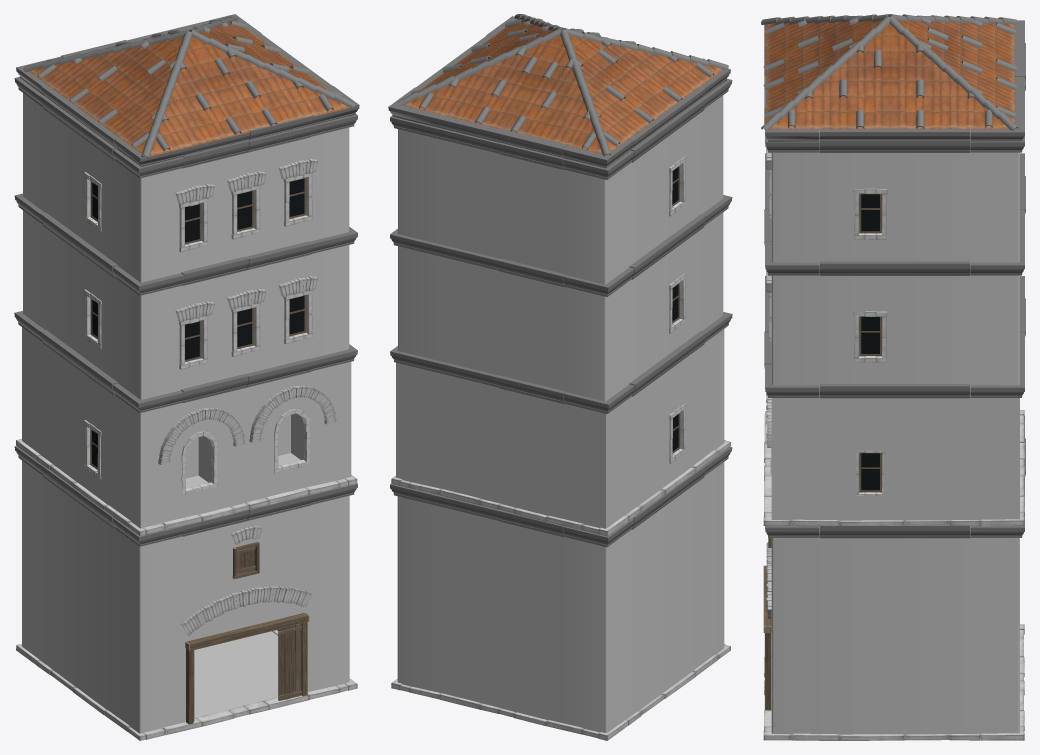
Rendered from SM_insulae_building_03.fbx.
3 views of the same model, side by side, from view 1: azimuth 30°, elevation 25°; view 2: azimuth 150°, elevation 25°; view 3: azimuth 270°, elevation 25° (orthographic). The views are drawn at different scales.
Visible parts, largest first — view 1: Box286; view 2: Box286; view 3: Box286.
Part boxes in pixels (x1,y1,x2,y2): Box286: [14, 14, 359, 740]; Box286: [388, 14, 732, 740]; Box286: [761, 14, 1025, 740].
Size of the model in its own units: 309 by 855 by 306.
